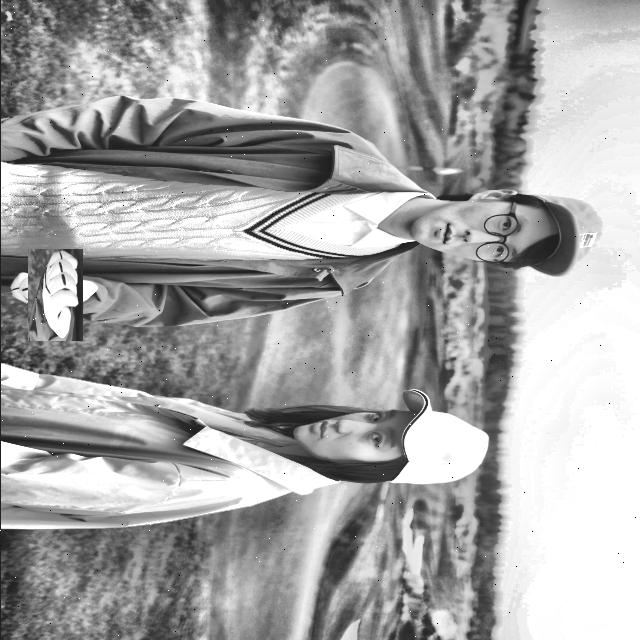gloved: (18, 258, 92, 332)
